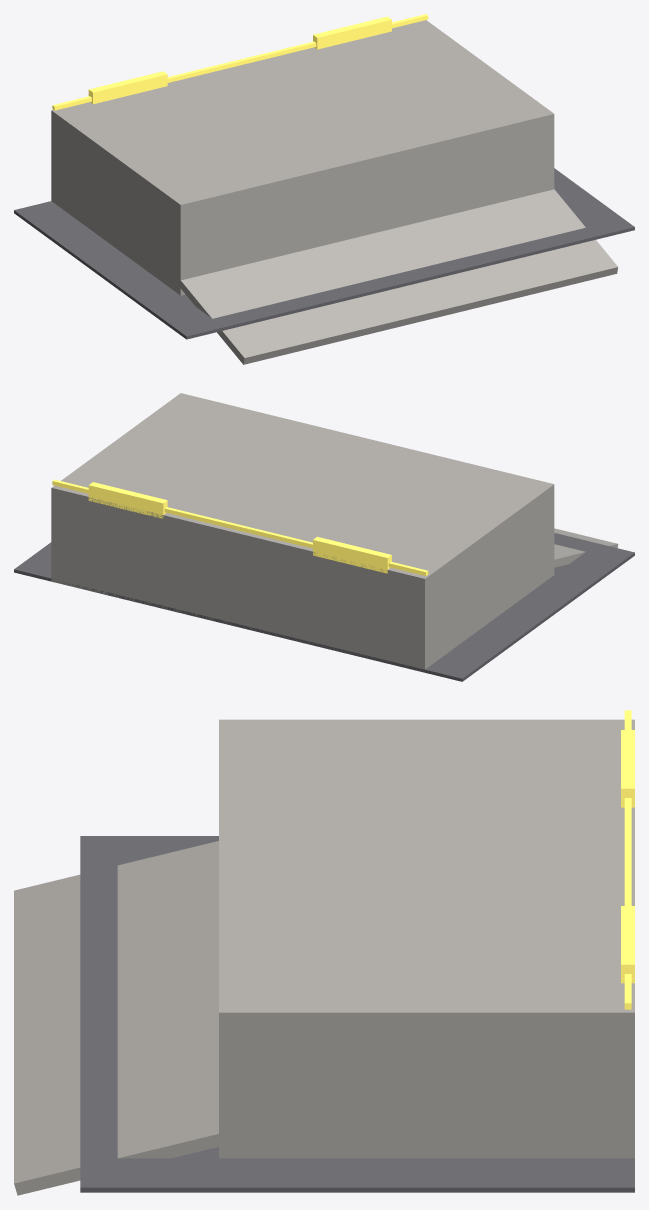
File: loading_dock.glb
3 views of the same model, one above another, from view 1: azimuth 30°, elevation 25°; view 2: azimuth 150°, elevation 25°; view 3: azimuth 270°, elevation 25° (orthographic). The views are drawn at different scales.
Visible parts, largest first — view 1: dock, ramp, ground, edge_line, bumper_1, bumper_2; view 2: dock, ground, bumper_2, bumper_1, edge_line, ramp; view 3: dock, ramp, ground, edge_line, bumper_1, bumper_2.
Part boxes in pixels (box(x1,y1,x2,y2)): dock: box(51, 20, 554, 295); ramp: box(160, 189, 618, 364); ground: box(14, 168, 634, 339); edge_line: box(52, 14, 428, 110); bumper_1: box(88, 71, 167, 104); bumper_2: box(313, 16, 391, 49); dock: box(51, 393, 554, 669); ground: box(14, 533, 634, 681); bumper_2: box(88, 482, 167, 518); bumper_1: box(313, 536, 391, 573); edge_line: box(52, 479, 428, 575); ramp: box(534, 528, 618, 572); dock: box(219, 719, 634, 1158); ramp: box(14, 841, 284, 1195); ground: box(80, 836, 634, 1192); edge_line: box(624, 710, 631, 1009); bumper_1: box(621, 730, 634, 807); bumper_2: box(621, 906, 634, 983).
Bounding box in the file's own units: 6 × 1.61 × 4.48.
